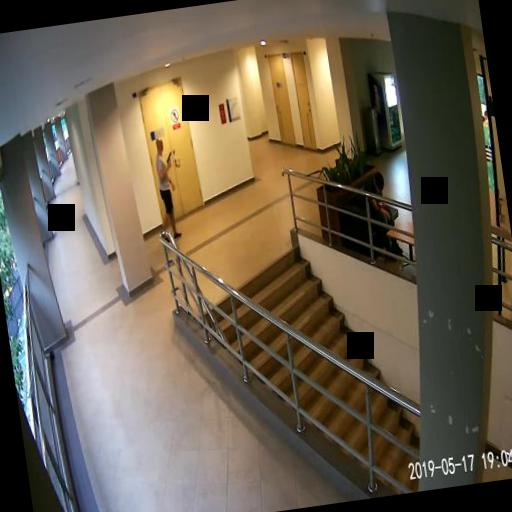Handgun: (164, 150, 172, 165)
